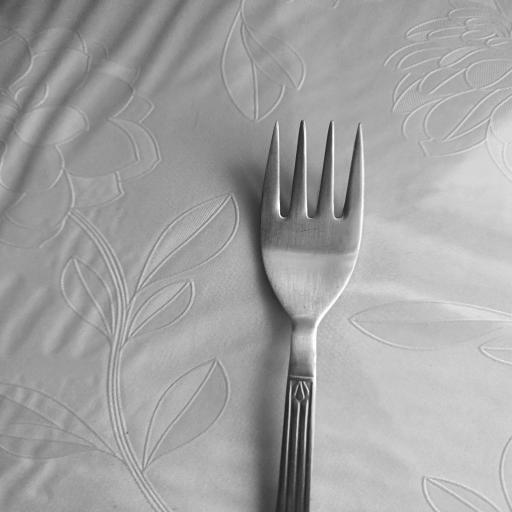fork: (256, 119, 367, 512)
